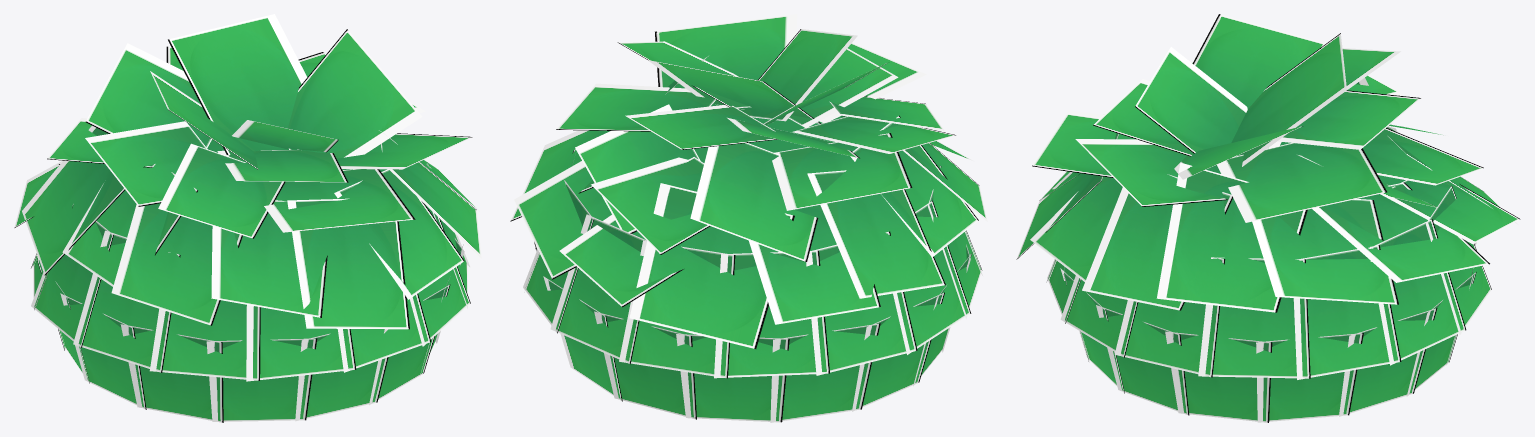
The model's file is Forest_Bush.gltf.
3 renders of one model, left to right at view 1: azimuth 30°, elevation 25°; view 2: azimuth 150°, elevation 25°; view 3: azimuth 270°, elevation 25°, orthographic. The views are drawn at different scales.
Parts seen in each view (by area): view 1: Forest_Bush; view 2: Forest_Bush; view 3: Forest_Bush.
Part boxes in pixels (<box>): Forest_Bush: <box>14,14,481,422</box>; Forest_Bush: <box>510,14,987,422</box>; Forest_Bush: <box>1016,14,1520,422</box>.
Size of the model in its own units: 0.4666 by 0.328 by 0.5186.
1 material, 1 textured.
